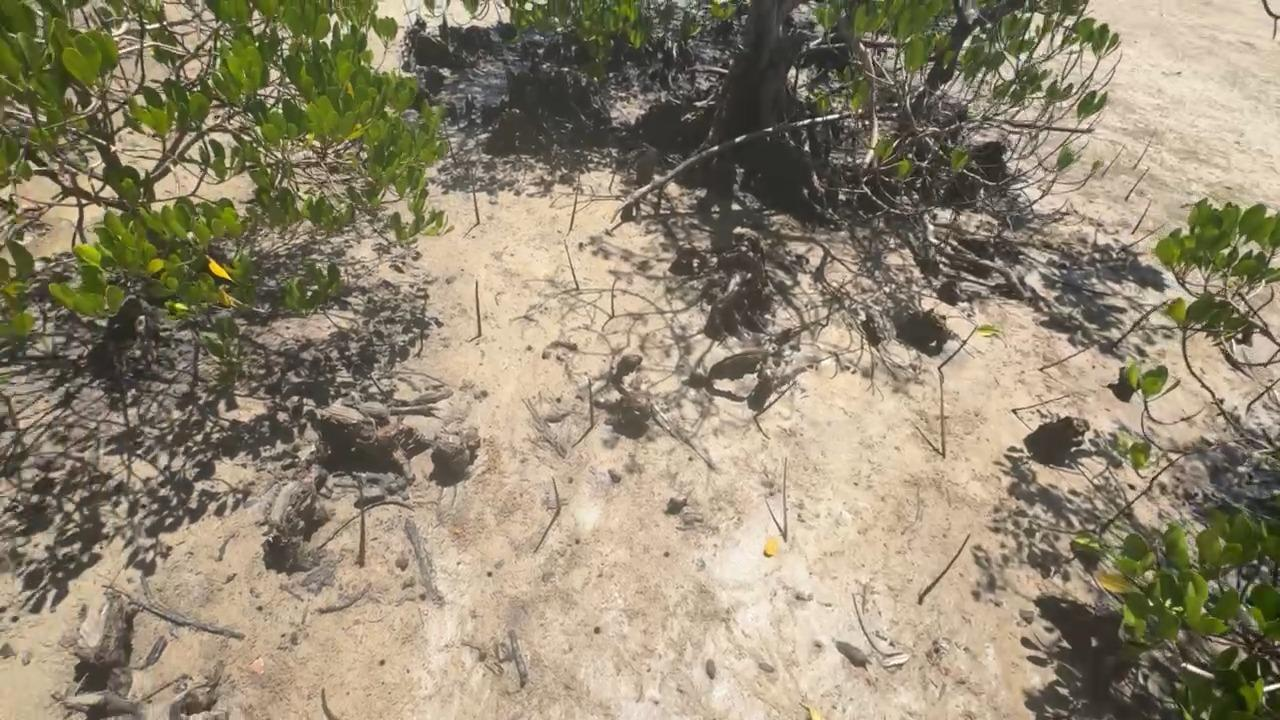Tree: (919, 534, 970, 604), (1108, 302, 1167, 352), (1038, 340, 1100, 372), (936, 328, 976, 371), (1114, 224, 1165, 255), (1132, 127, 1158, 171), (1246, 377, 1280, 407), (1011, 394, 1069, 411), (566, 172, 581, 235), (1101, 143, 1125, 178), (564, 239, 580, 289), (1124, 169, 1149, 201), (357, 481, 366, 566), (939, 378, 948, 459), (1130, 201, 1152, 234), (442, 120, 457, 164), (321, 686, 339, 720), (783, 457, 789, 541), (472, 172, 480, 223), (551, 475, 562, 511), (475, 280, 482, 336), (610, 279, 619, 318), (588, 379, 594, 429), (608, 163, 617, 191), (1198, 0, 1201, 18)
